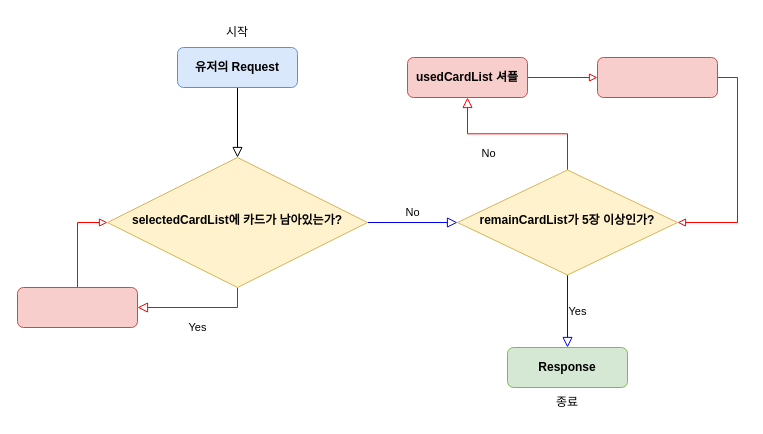
The diagram is 763 pixels wide and 434 high, and some of its shapes have lost their labels. The centre of each missing label's shape, as x and y in pixels:
remainCardList 추가: point (657, 77)
카드 효과 적용: point (77, 307)
